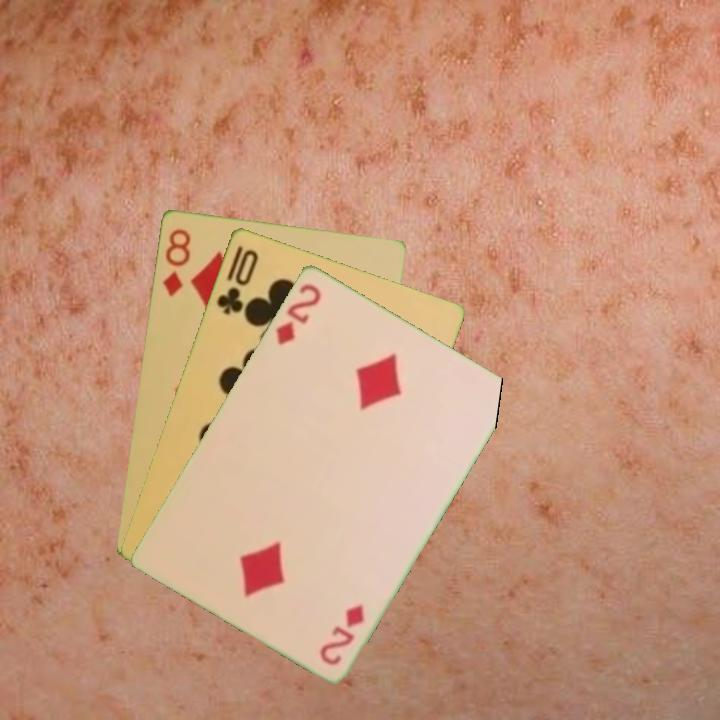10c: (213, 241, 261, 317)
2d: (271, 279, 324, 348), (316, 599, 367, 668)
8d: (158, 225, 193, 299)
